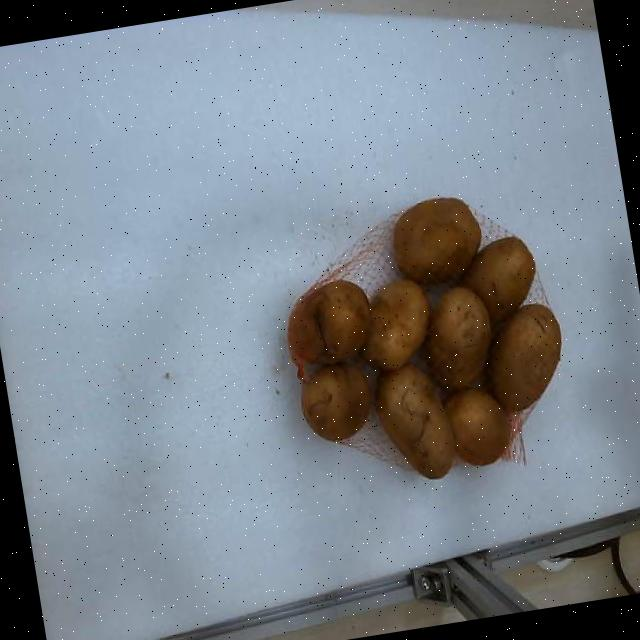potato: (377, 364, 455, 479), (486, 304, 561, 411), (393, 197, 481, 284), (424, 287, 492, 390), (288, 280, 369, 366), (461, 237, 535, 324), (361, 280, 430, 371), (301, 363, 370, 440), (446, 388, 510, 466)
